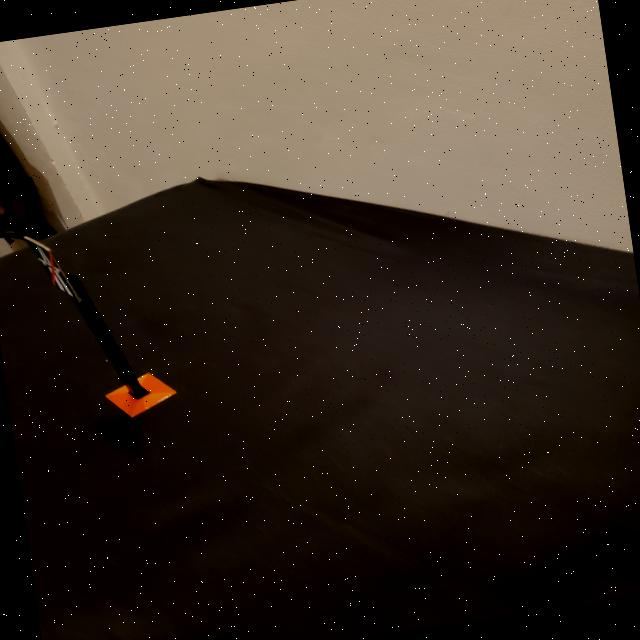highway_exit: (23, 230, 82, 310)
